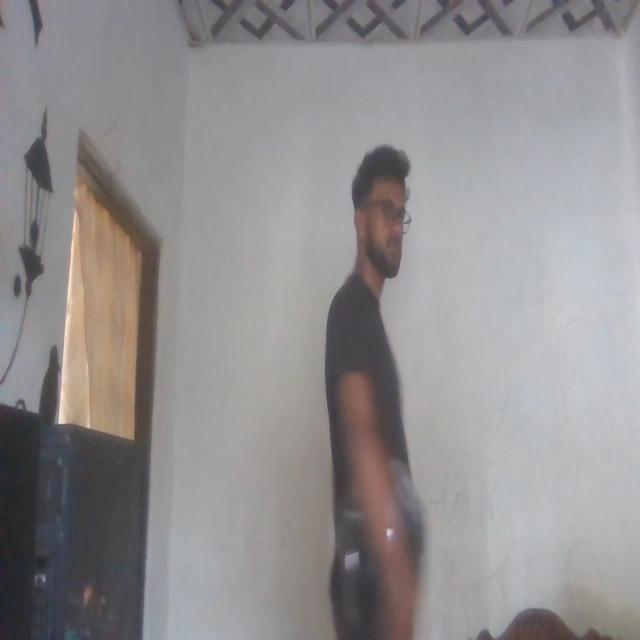Person: (304, 138, 467, 640)
